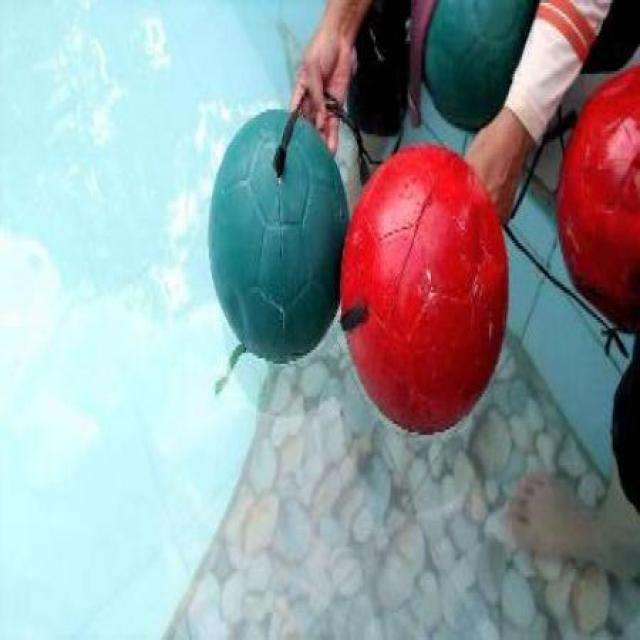buoy: (340, 144, 509, 431), (208, 107, 350, 364), (554, 62, 638, 332), (424, 1, 533, 130)
